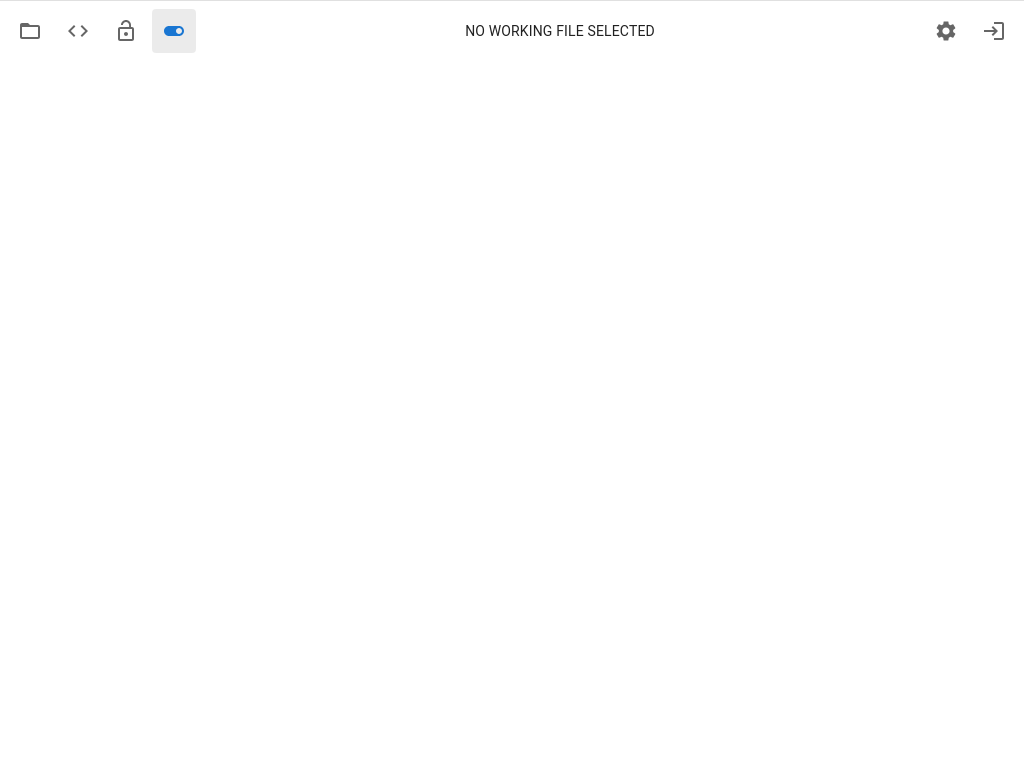
Test: EditorConfigActions › groups all three checkboxes together while retaining accessible section and theme names
Step 1. Click the button named "Settings" → (946, 31), box [924,9,968,53]
(page scrolled)
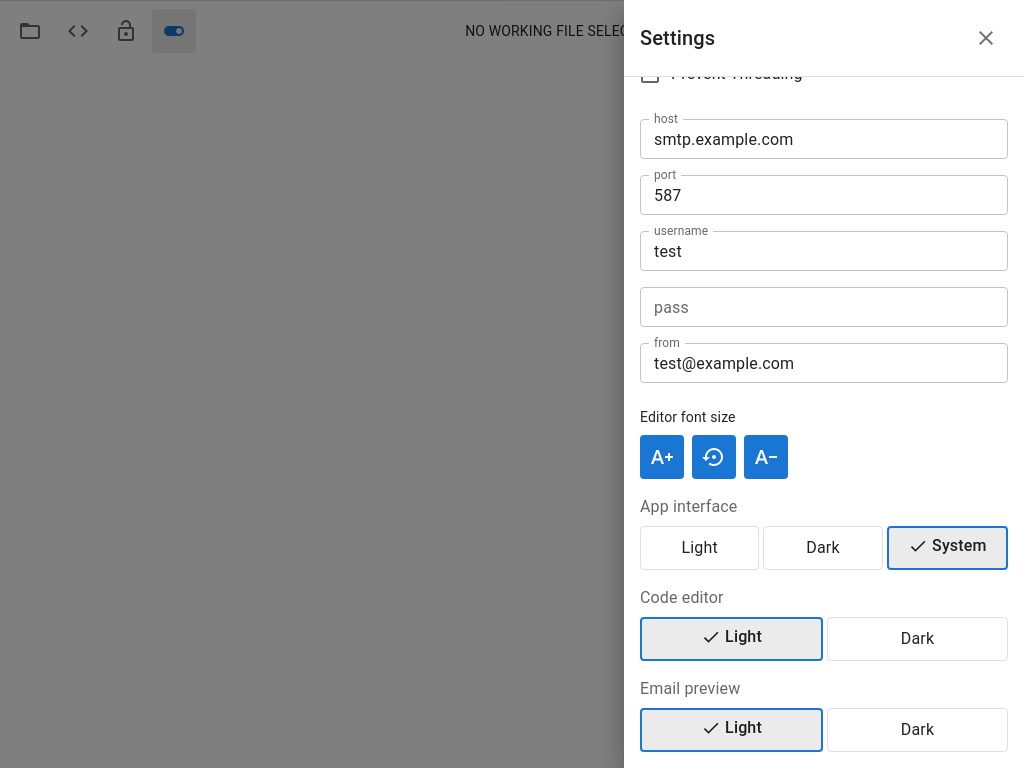
expect the field labelled "host" is shown: met, box [640,119,1008,159]
expect the element named "App interface" is shown: met, box [640,526,1008,570]
expect the element named "Code editor" is shown: met, box [640,617,1008,661]
